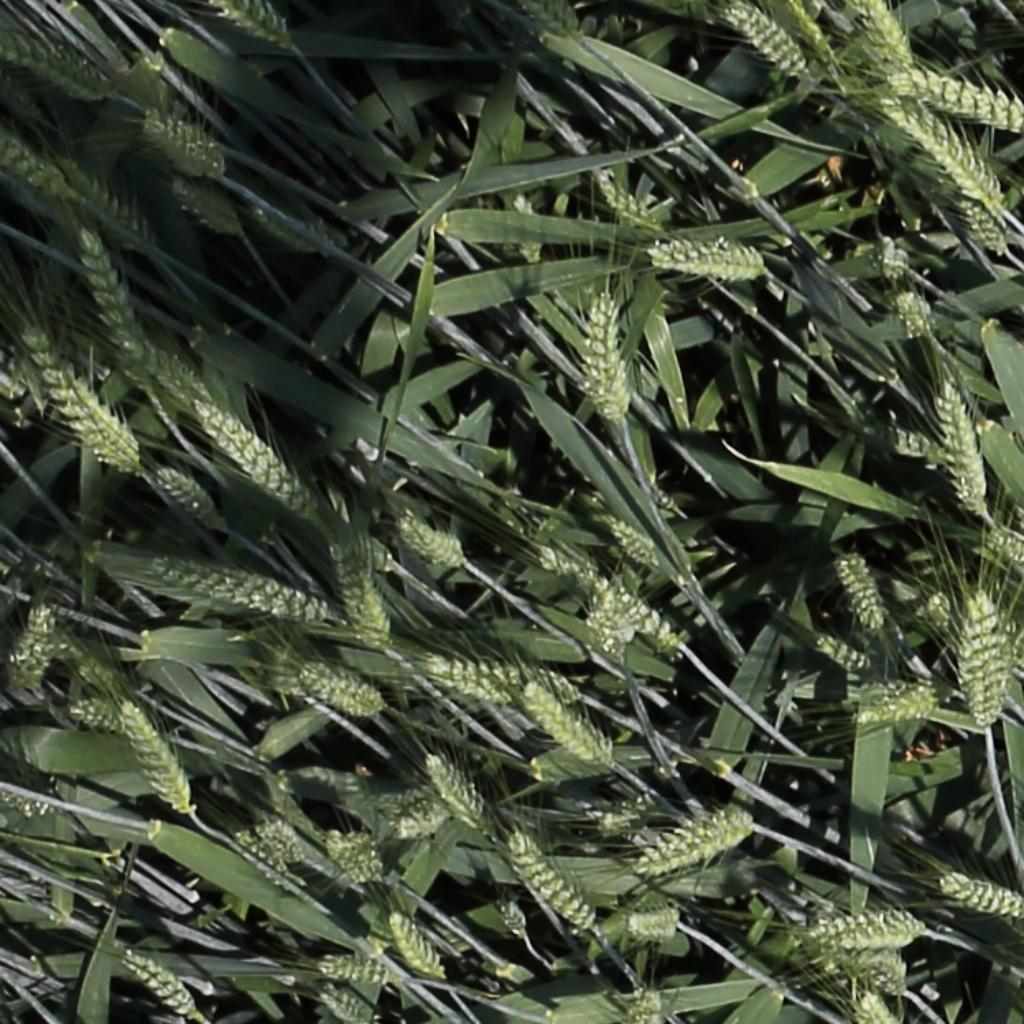0-0: (24, 325, 151, 487), (535, 543, 684, 645), (887, 94, 1006, 210), (189, 401, 309, 516), (54, 155, 167, 263), (113, 699, 205, 827), (505, 831, 604, 940), (148, 559, 323, 618), (70, 221, 144, 357), (957, 592, 1019, 745), (0, 33, 126, 108), (521, 684, 620, 773), (577, 292, 639, 432), (634, 804, 759, 873), (888, 70, 1024, 133), (724, 2, 818, 91), (807, 928, 912, 1000), (795, 903, 927, 957), (937, 382, 989, 518), (117, 946, 210, 1021), (427, 662, 585, 706), (573, 574, 663, 651), (646, 236, 771, 288), (420, 752, 490, 839), (164, 175, 253, 242), (324, 537, 374, 649), (843, 672, 941, 727), (380, 906, 446, 987), (150, 462, 223, 532), (298, 662, 394, 715), (951, 185, 1013, 265), (214, 1, 304, 55), (245, 197, 332, 251), (5, 602, 53, 696), (589, 166, 659, 230), (139, 113, 217, 170), (933, 870, 1024, 918), (835, 548, 884, 636), (860, 0, 916, 76), (0, 132, 66, 195), (395, 514, 462, 567), (321, 830, 388, 882), (603, 514, 659, 572), (353, 567, 390, 652), (510, 184, 544, 273), (812, 636, 879, 681), (72, 649, 135, 695), (64, 695, 134, 735), (230, 828, 288, 876), (245, 824, 301, 872), (617, 905, 689, 941), (891, 283, 932, 344), (866, 228, 910, 282), (315, 955, 398, 982), (521, 0, 576, 39), (853, 983, 902, 1024), (315, 987, 371, 1022), (492, 894, 531, 944), (987, 532, 1024, 570), (625, 984, 659, 1022)
